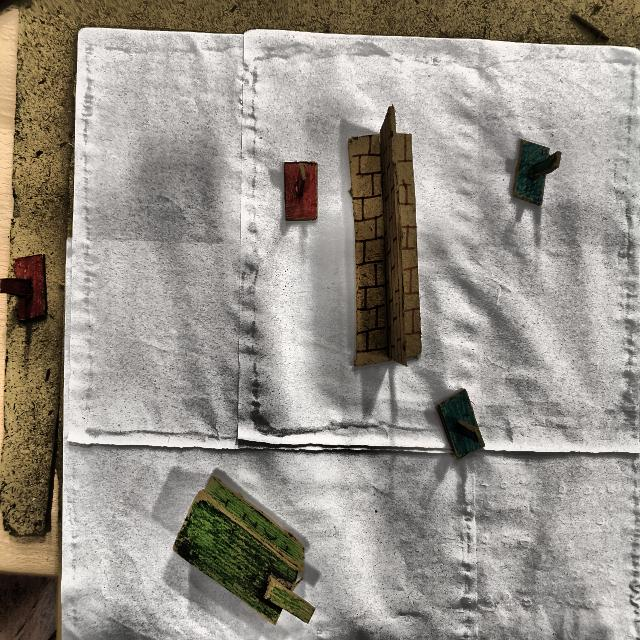Tank: (173, 473, 316, 625)
Wall: (345, 108, 423, 372)
enemy: (280, 159, 322, 227)
friend: (510, 135, 564, 219), (436, 380, 489, 464)
